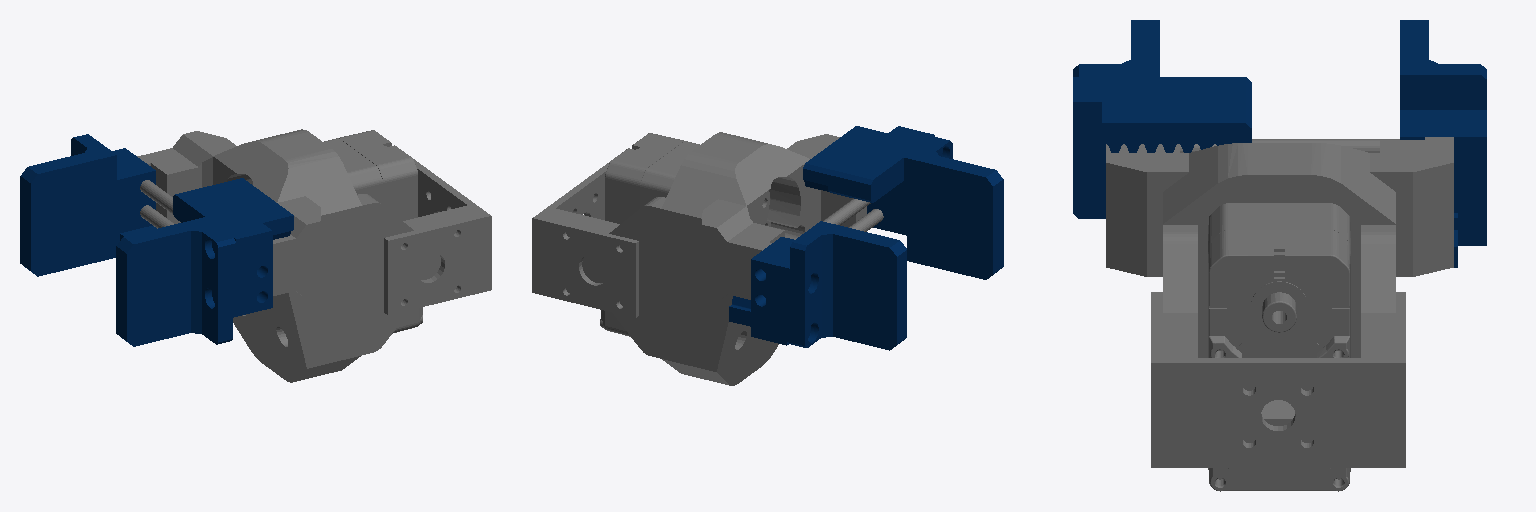
The robot description file, URDF, robot "gripper":
<?xml version="1.0" ?>
<!-- Generated using onshape-to-robot -->
<!-- Onshape https://cad.onshape.com/documents/c8a54d6276cb8caa1bed256e/w/1e7ce577be904a677108135e/e/307e96af6947dd3ee8f44b51 -->
<robot name="gripper">
  <!-- Link end_effector -->
  <link name="end_effector">
    <inertial>
      <origin xyz="0 0 0" rpy="0 0 0"/>
      <mass value="1e-09"/>
      <inertia ixx="1e-09" ixy="0" ixz="0" iyy="1e-09" iyz="0" izz="1e-09"/>
    </inertial>
    <!-- Part end_effector -->
    <visual>
      <origin xyz="0 0 0" rpy="-1.5708 -0 1.5708"/>
      <geometry>
        <mesh filename="assets/end_effector.stl"/>
      </geometry>
      <material name="end_effector_material">
        <color rgba="0.498039 0.498039 0.498039 1"/>
      </material>
    </visual>
    <collision>
      <origin xyz="0 0 0" rpy="-1.5708 -0 1.5708"/>
      <geometry>
        <mesh filename="assets/end_effector.stl"/>
      </geometry>
    </collision>
  </link>
  <!-- Link finger -->
  <link name="finger">
    <inertial>
      <origin xyz="0 0 0" rpy="0 0 0"/>
      <mass value="1e-09"/>
      <inertia ixx="1e-09" ixy="0" ixz="0" iyy="1e-09" iyz="0" izz="1e-09"/>
    </inertial>
    <!-- Part finger -->
    <visual>
      <origin xyz="-0.01035 0.0058 -0.0309" rpy="-1.5708 -1.5708 0"/>
      <geometry>
        <mesh filename="assets/finger.stl"/>
      </geometry>
      <material name="finger_material">
        <color rgba="0.0431373 0.215686 0.403922 1"/>
      </material>
    </visual>
    <collision>
      <origin xyz="-0.01035 0.0058 -0.0309" rpy="-1.5708 -1.5708 0"/>
      <geometry>
        <mesh filename="assets/finger.stl"/>
      </geometry>
    </collision>
  </link>
  <!-- Joint from end_effector to finger -->
  <joint name="l" type="prismatic">
    <origin xyz="-0.0720576 -0.0248088 0.0172625" rpy="1.5708 1.5708 0"/>
    <parent link="end_effector"/>
    <child link="finger"/>
    <axis xyz="0 0 1"/>
    <!-- Stroke from measured 1.95cm max aperture: q in [0.0058 (closed), 0.0156 (open)] -->
    <limit effort="10" velocity="10" lower="0.0058" upper="0.0156"/>
  </joint>
  <!-- Link finger_2 -->
  <link name="finger_2">
    <inertial>
      <origin xyz="0 0 0" rpy="0 0 0"/>
      <mass value="1e-09"/>
      <inertia ixx="1e-09" ixy="0" ixz="0" iyy="1e-09" iyz="0" izz="1e-09"/>
    </inertial>
    <!-- Part finger_2 -->
    <visual>
      <origin xyz="-0.01035 0.0058 -0.0309" rpy="-1.5708 -1.5708 0"/>
      <geometry>
        <mesh filename="assets/finger.stl"/>
      </geometry>
      <material name="finger_2_material">
        <color rgba="0.0431373 0.215686 0.403922 1"/>
      </material>
    </visual>
    <collision>
      <origin xyz="-0.01035 0.0058 -0.0309" rpy="-1.5708 -1.5708 0"/>
      <geometry>
        <mesh filename="assets/finger.stl"/>
      </geometry>
    </collision>
  </link>
  <!-- Joint from end_effector to finger_2 -->
  <joint name="r" type="prismatic">
    <origin xyz="-0.0720576 0.0253912 0.0104625" rpy="-1.5708 -1.5708 0"/>
    <parent link="end_effector"/>
    <child link="finger_2"/>
    <axis xyz="0 0 1"/>
    <!-- Stroke from measured 1.95cm max aperture: q in [0.0058 (closed), 0.0156 (open)] -->
    <limit effort="10" velocity="10" lower="0.0058" upper="0.0156"/>
  </joint>
</robot>

--- What the picture shows (computed from the rendered views, not written in the file) ---
Views: 3 orthographic renders of the robot side by side, from view 1: azimuth 30°, elevation 25°; view 2: azimuth 150°, elevation 25°; view 3: azimuth 270°, elevation 25°.
Model gripper with 3 links and 2 joints (2 prismatic), rooted at end_effector, posed joints at zero except 2 at the middle of their limits (l = 0.0107, r = 0.0107).
Visible links, largest first — view 1: end_effector, finger, finger_2; view 2: end_effector, finger, finger_2; view 3: end_effector, finger, finger_2.
Link boxes in pixels (bbox=[...]): end_effector: bbox=[137, 129, 491, 382]; finger: bbox=[116, 178, 293, 346]; finger_2: bbox=[20, 134, 156, 276]; end_effector: bbox=[532, 132, 883, 385]; finger: bbox=[803, 126, 1003, 279]; finger_2: bbox=[729, 221, 906, 350]; end_effector: bbox=[1106, 137, 1453, 491]; finger: bbox=[1073, 20, 1251, 218]; finger_2: bbox=[1400, 20, 1486, 267].
Size in the robot's own frame: 0.1044 by 0.0716 by 0.059 metres.
Meshes: 2 distinct files referenced, 3 mesh visuals loaded (2 binary STL).
